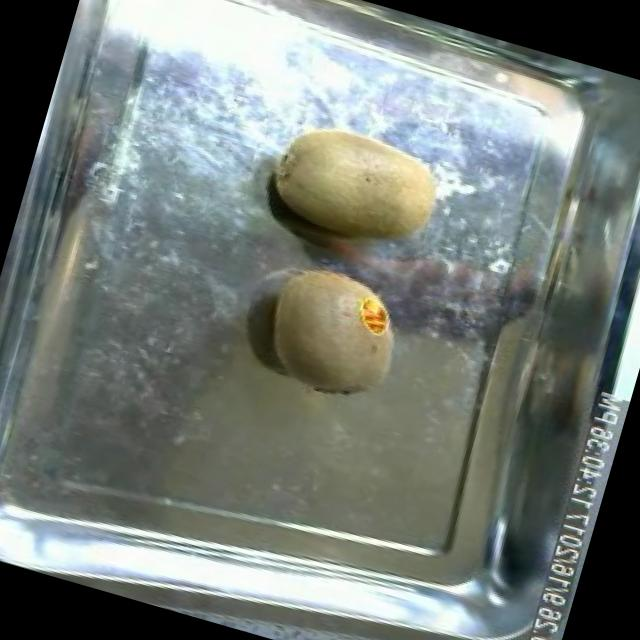Fruit: (252, 100, 459, 267), (245, 242, 423, 416)
